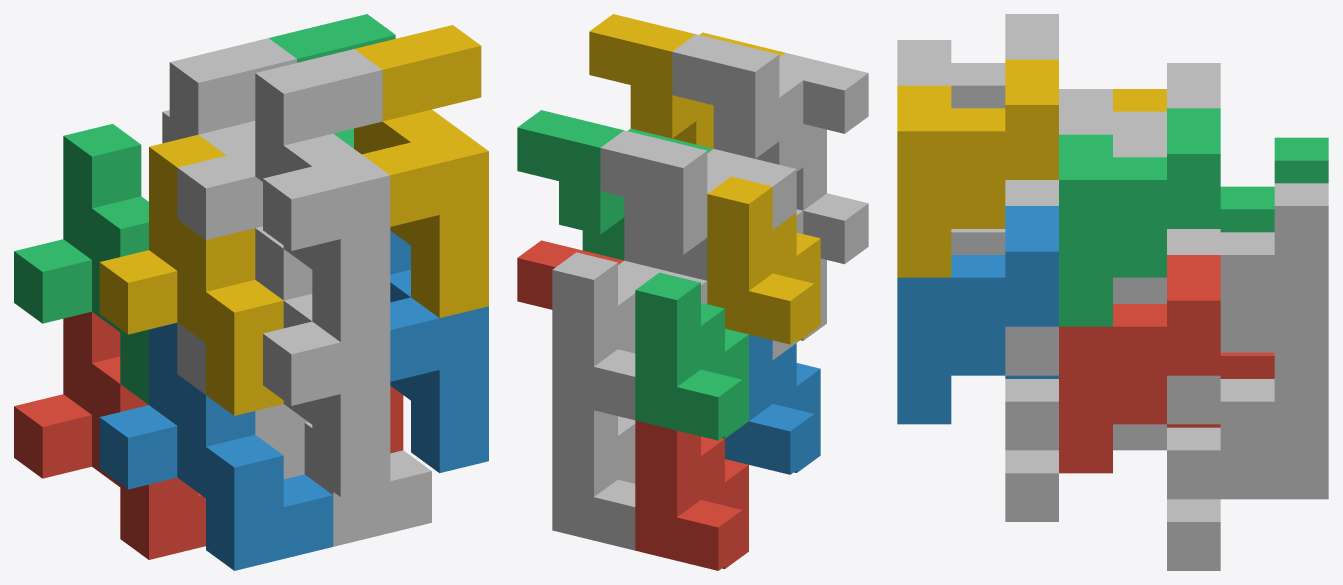
File: tiling.obj
3 renders of one model, left to right at view 1: azimuth 30°, elevation 25°; view 2: azimuth 150°, elevation 25°; view 3: azimuth 270°, elevation 25°, orthographic. The views are drawn at different scales.
Parts seen in each view (by area): view 1: copy_2_domain_4, copy_2_domain_8, copy_1_domain_2, copy_1_domain_4, copy_2_domain_2, copy_1_domain_3, copy_1_domain_1, copy_2_domain_6, copy_2_domain_3, copy_1_domain_6, copy_2_domain_1, copy_2_domain_7 (+1 smaller); view 2: copy_2_domain_4, copy_1_domain_3, copy_1_domain_4, copy_1_domain_1, copy_2_domain_3, copy_1_domain_7, copy_1_domain_5, copy_2_domain_7, copy_2_domain_8, copy_1_domain_2, copy_2_domain_2, copy_2_domain_5 (+2 smaller); view 3: copy_2_domain_8, copy_2_domain_7, copy_1_domain_5, copy_2_domain_6, copy_2_domain_5, copy_1_domain_7, copy_1_domain_6, copy_2_domain_4, copy_2_domain_3, copy_1_domain_8, copy_1_domain_3, copy_2_domain_2 (+3 smaller).
Part boxes in pixels (x1,y1,x2,y2): copy_2_domain_4: [255, 49, 390, 342]; copy_2_domain_8: [354, 25, 488, 318]; copy_1_domain_2: [99, 323, 333, 570]; copy_1_domain_4: [99, 135, 283, 415]; copy_2_domain_2: [255, 226, 390, 497]; copy_1_domain_3: [14, 124, 148, 404]; copy_1_domain_1: [14, 311, 205, 559]; copy_2_domain_6: [390, 231, 488, 473]; copy_2_domain_3: [169, 38, 296, 239]; copy_1_domain_6: [304, 419, 431, 546]; copy_2_domain_1: [177, 323, 304, 479]; copy_2_domain_7: [269, 14, 395, 148]; copy_2_domain_4: [672, 34, 868, 210]; copy_1_domain_3: [635, 272, 748, 440]; copy_1_domain_4: [707, 176, 820, 344]; copy_1_domain_1: [635, 420, 748, 570]; copy_2_domain_3: [600, 130, 796, 280]; copy_1_domain_7: [552, 252, 638, 420]; copy_1_domain_5: [552, 400, 635, 550]; copy_2_domain_7: [517, 110, 713, 260]; copy_2_domain_8: [589, 14, 785, 148]; copy_1_domain_2: [725, 334, 820, 474]; copy_2_domain_2: [796, 193, 868, 340]; copy_2_domain_5: [517, 240, 623, 309]; copy_2_domain_8: [897, 59, 1058, 277]; copy_2_domain_7: [1059, 108, 1220, 326]; copy_1_domain_5: [1167, 352, 1328, 570]; copy_2_domain_6: [897, 206, 1058, 424]; copy_2_domain_5: [1059, 255, 1220, 473]; copy_1_domain_7: [1167, 183, 1328, 424]; copy_1_domain_6: [1005, 379, 1166, 521]; copy_2_domain_4: [897, 14, 1058, 108]; copy_2_domain_3: [1059, 63, 1220, 134]; copy_1_domain_8: [1005, 134, 1166, 375]; copy_1_domain_3: [1220, 137, 1328, 232]; copy_2_domain_2: [951, 180, 1058, 254].
Bounding box in the file's own units: 6 × 10 × 8.
